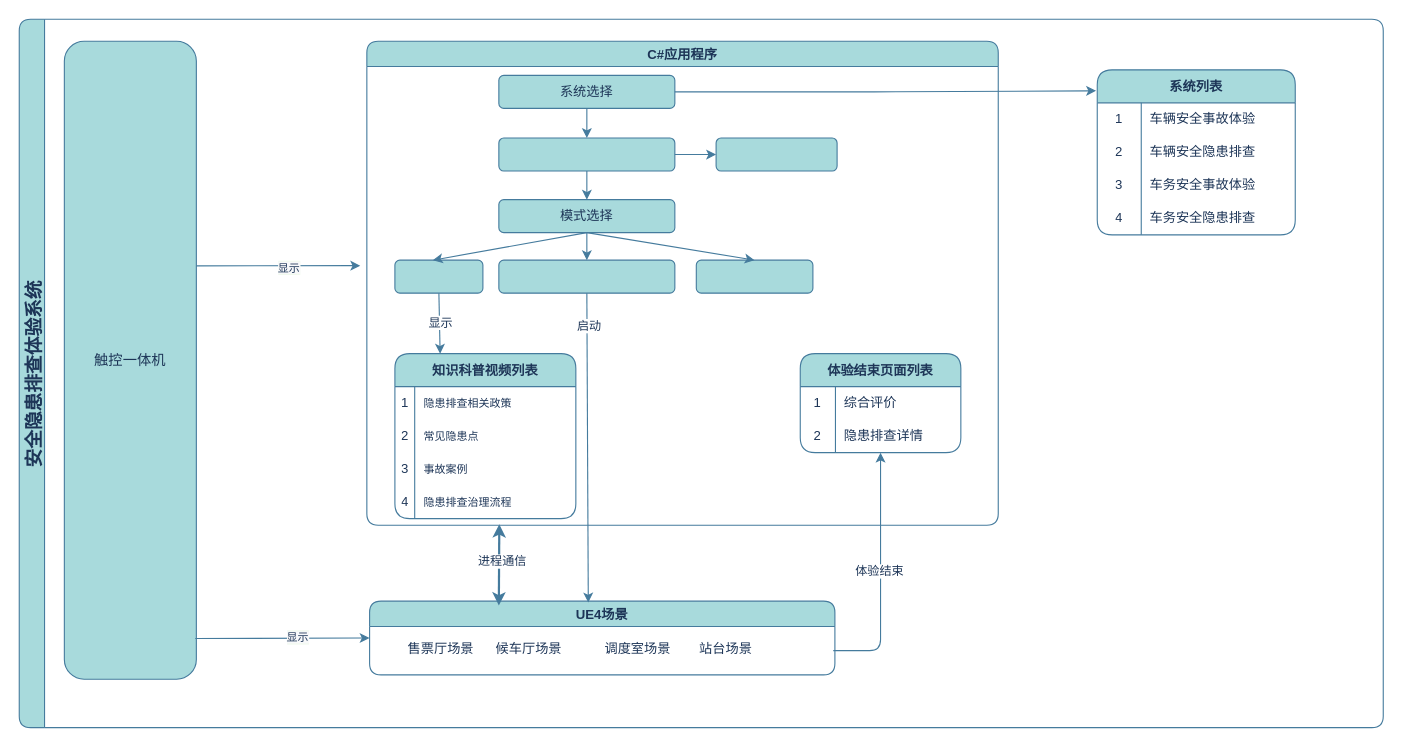
Image size: 1403x747. Some labels were removed from this diagram. Each missing label, with the centre of its shape:
引导教学: the point at 586,276
微光互联HD100: the point at 776,154
知识科普: the point at 438,276
自主体验: the point at 754,276
身份认证: the point at 586,154
